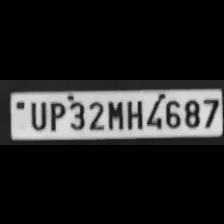2: (86, 98, 104, 130)
3: (66, 98, 86, 130)
4: (144, 94, 162, 128)
6: (162, 96, 180, 128)
7: (200, 94, 220, 128)
8: (181, 96, 201, 128)
H: (124, 96, 142, 128)
M: (104, 96, 124, 130)
P: (46, 99, 64, 131)
U: (26, 98, 46, 130)
